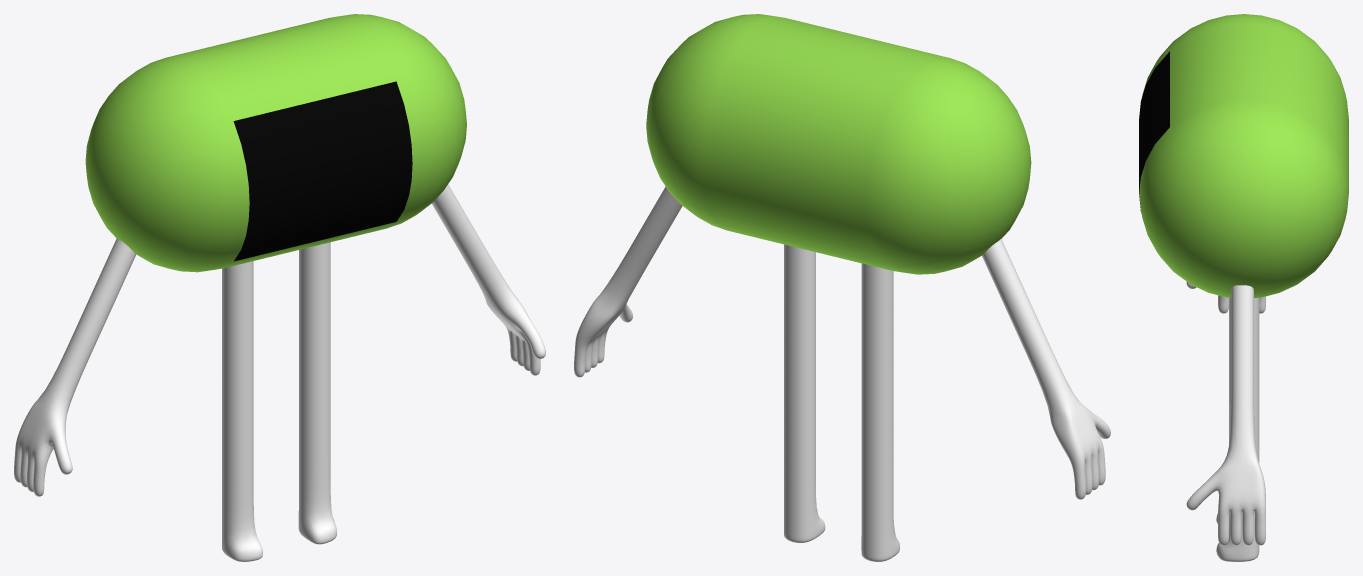
File: Player.fbx
3 renders of one model, left to right at view 1: azimuth 30°, elevation 25°; view 2: azimuth 150°, elevation 25°; view 3: azimuth 270°, elevation 25°, orthographic. The views are drawn at different scales.
Parts seen in each view (by area): view 1: Intern, Intern.001, Legs.006, Legs.005, Arms.006, Arms.005; view 2: Intern, Legs.006, Legs.005, Arms.006, Arms.005; view 3: Intern, Arms.005, Intern.001, Legs.005, Arms.006.
Boxes of the visible parts, bbox=[...] form: Intern: bbox=[85, 14, 466, 272]; Intern.001: bbox=[233, 81, 412, 261]; Legs.006: bbox=[222, 261, 262, 561]; Legs.005: bbox=[298, 242, 336, 544]; Arms.006: bbox=[14, 238, 136, 496]; Arms.005: bbox=[431, 184, 545, 375]; Intern: bbox=[646, 14, 1031, 274]; Legs.006: bbox=[861, 263, 899, 561]; Legs.005: bbox=[784, 244, 825, 542]; Arms.006: bbox=[982, 239, 1110, 499]; Arms.005: bbox=[574, 186, 682, 377]; Intern: bbox=[1139, 14, 1348, 297]; Arms.005: bbox=[1186, 285, 1265, 545]; Intern.001: bbox=[1139, 51, 1169, 212]; Legs.005: bbox=[1216, 297, 1259, 561]; Arms.006: bbox=[1186, 282, 1265, 313].
Size of the model in its own units: 2.67 by 1 by 2.52.
